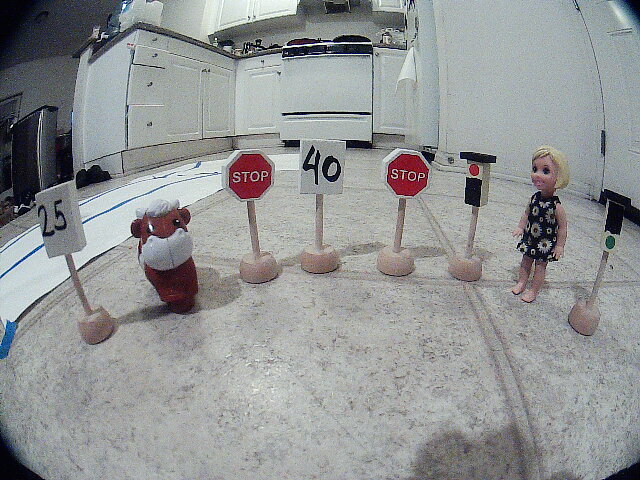Cow: (114, 190, 223, 320)
Green Traffic Light: (593, 174, 639, 269)
Person: (504, 146, 579, 314)
Red Traffic Light: (456, 147, 505, 231)
Speed Limit 25: (31, 191, 93, 261)
Speed Limit 40: (294, 127, 354, 210)
Stop Sign: (372, 140, 442, 210), (217, 151, 289, 205)
